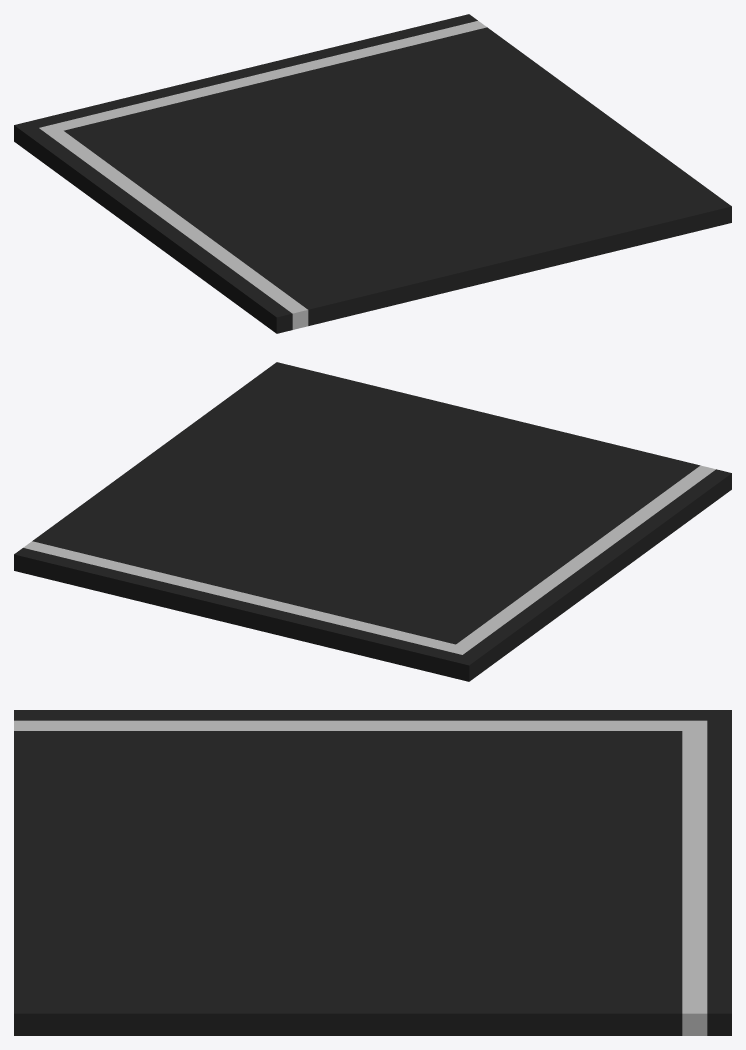
The model's file is asphalt-edgy-edge-outer.gltf.
3 views of the same model, one above another, from view 1: azimuth 30°, elevation 25°; view 2: azimuth 150°, elevation 25°; view 3: azimuth 270°, elevation 25° (orthographic). The views are drawn at different scales.
Visible parts, largest first — view 1: asphalt-edgy-edge-outer_model; view 2: asphalt-edgy-edge-outer_model; view 3: asphalt-edgy-edge-outer_model.
Part boxes in pixels (box(x1,y1,x2,y2)): asphalt-edgy-edge-outer_model: box(14, 14, 731, 333); asphalt-edgy-edge-outer_model: box(14, 362, 731, 681); asphalt-edgy-edge-outer_model: box(14, 710, 731, 1035).
Size of the model in its own units: 2.9 by 0.1 by 2.9.
1 material, 1 textured.
